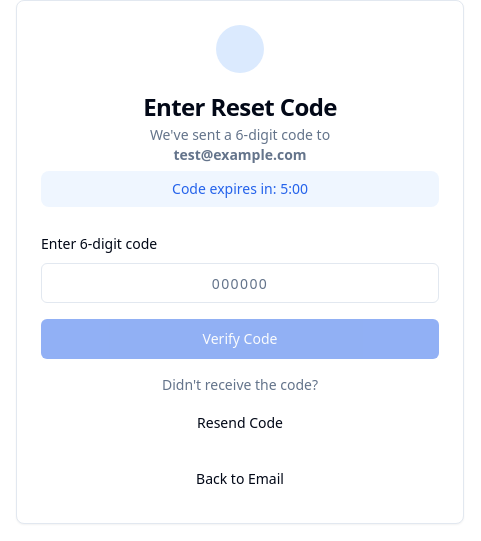
Test: PasswordResetOTPForm › only allows numeric input and limits to 6 digits
This screenshot has width=481, height=541.
// Try to enter non-numeric characters
Type "abc123def456789" into the field labelled "Enter 6-digit code". click: {"x": 240, "y": 283}
box: [41,263,439,303]
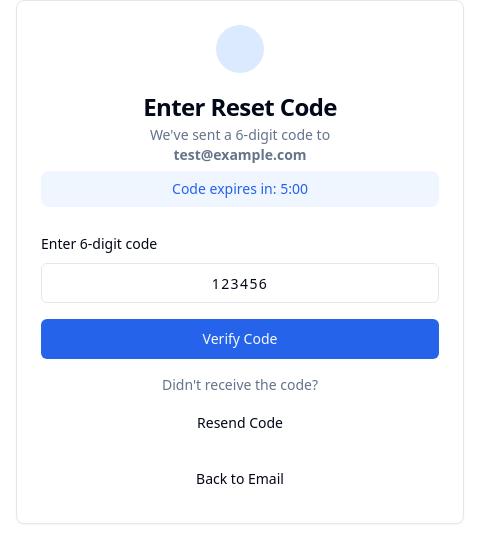
Expected: the field labelled "Enter 6-digit code" holds "123456", [41,263,439,303]
